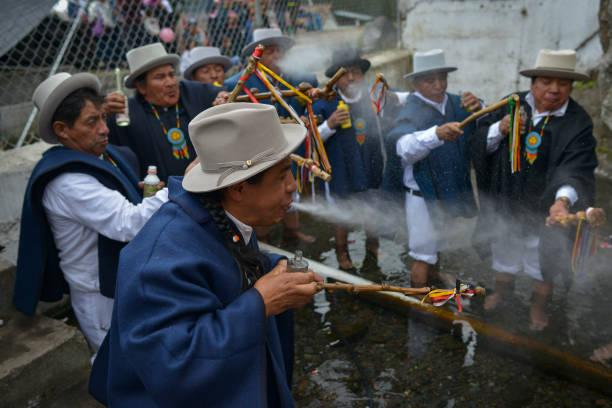Spitting: (143, 94, 393, 272)
